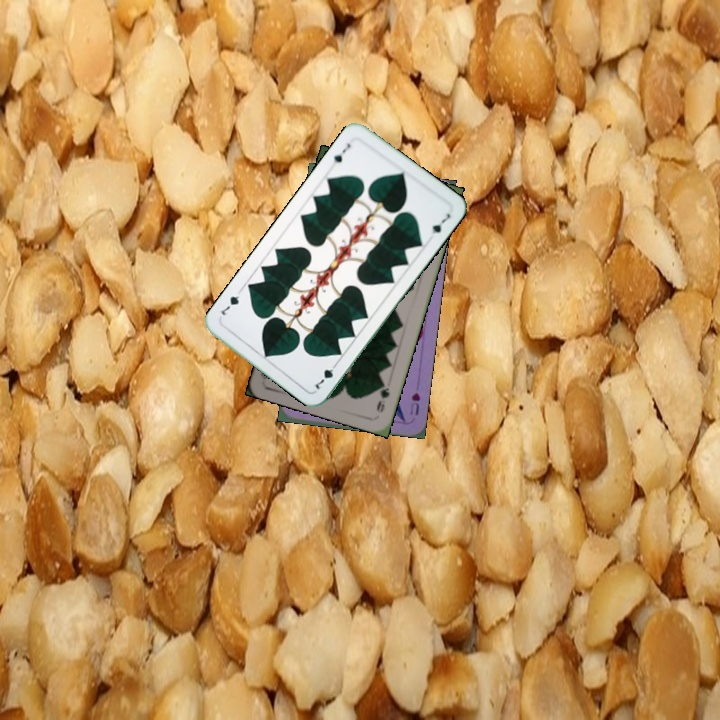G7: (311, 358, 340, 392), (327, 139, 353, 169)
G9: (372, 377, 392, 415)
HU: (406, 388, 423, 418)
